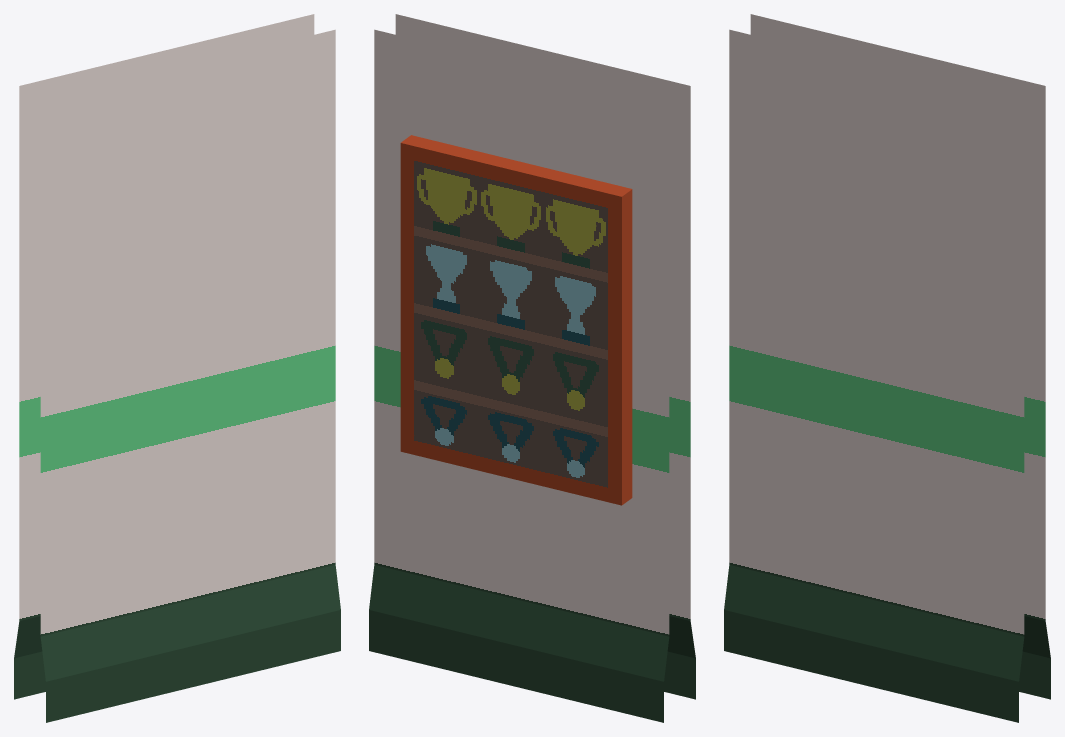
The model's file is SportWall2.gltf.
3 views of the same model, side by side, from view 1: azimuth 30°, elevation 25°; view 2: azimuth 150°, elevation 25°; view 3: azimuth 330°, elevation 25° (orthographic).
Parts seen in each view (by area): view 1: cuboid; view 2: cuboid; view 3: cuboid.
Boxes of the visible parts, left/top/right/bottom form: cuboid: left=14, top=14, right=340, bottom=722; cuboid: left=369, top=14, right=695, bottom=722; cuboid: left=724, top=14, right=1050, bottom=722.
Size of the model in its own units: 2 by 4 by 0.4375.
Materials: 1 (1 with a texture image).
